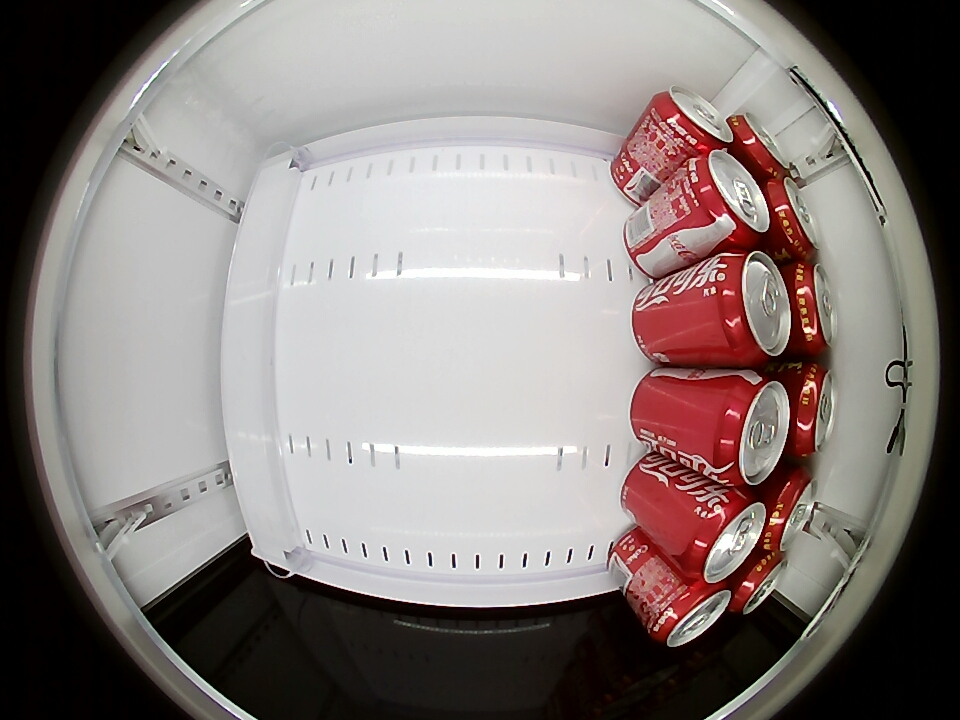kele: (709, 371, 789, 486), (709, 251, 790, 364), (683, 149, 770, 249), (682, 488, 767, 583), (648, 578, 732, 647), (652, 87, 733, 154)
wanglaoji-c: (761, 468, 819, 552), (788, 261, 838, 354), (788, 362, 838, 455), (767, 177, 821, 259), (730, 111, 793, 180), (731, 550, 788, 615)
